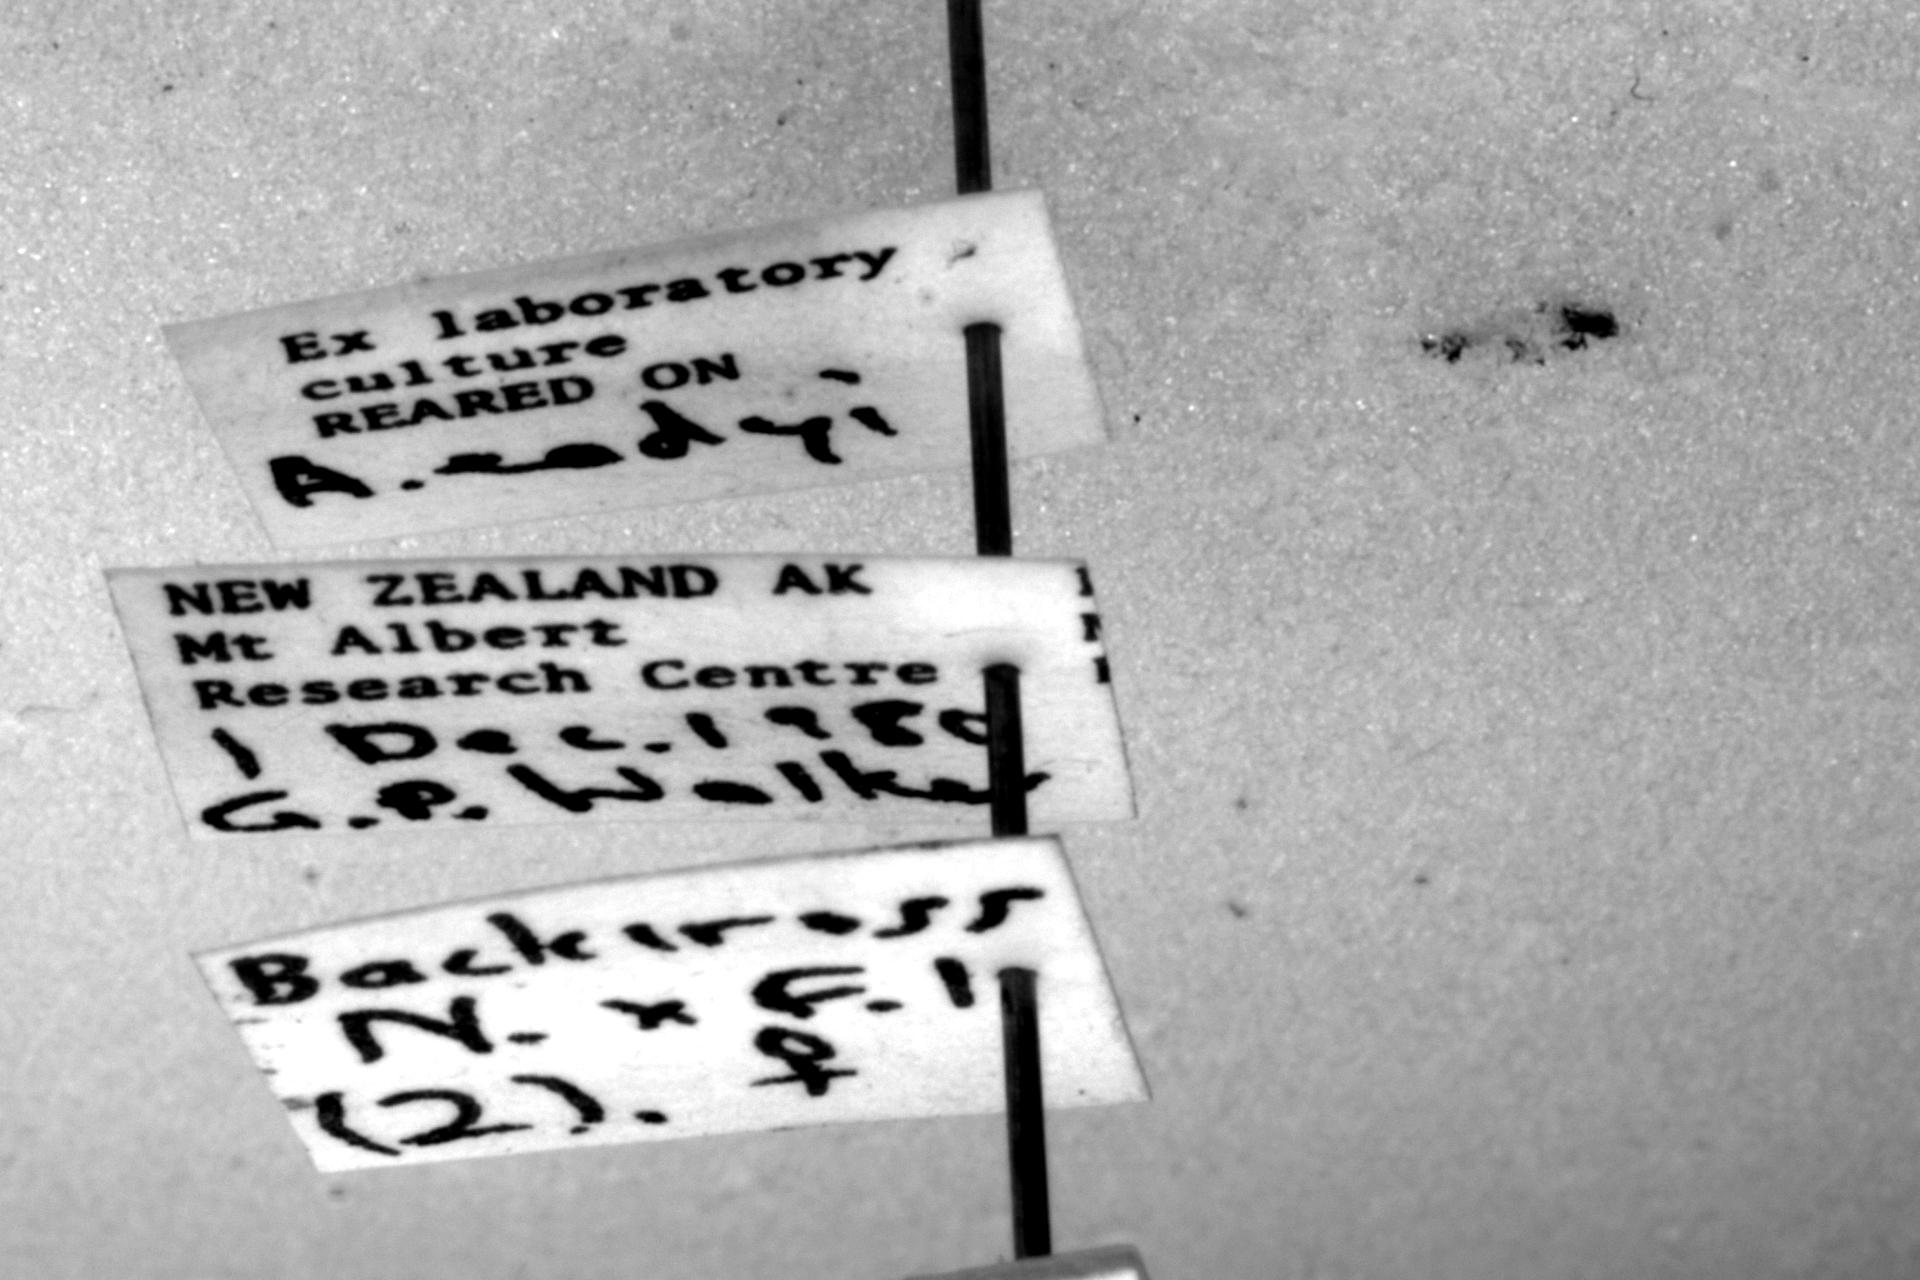hand_label: (195, 836, 1148, 1174)
mixed_label: (165, 188, 1110, 548), (109, 555, 1132, 840)
